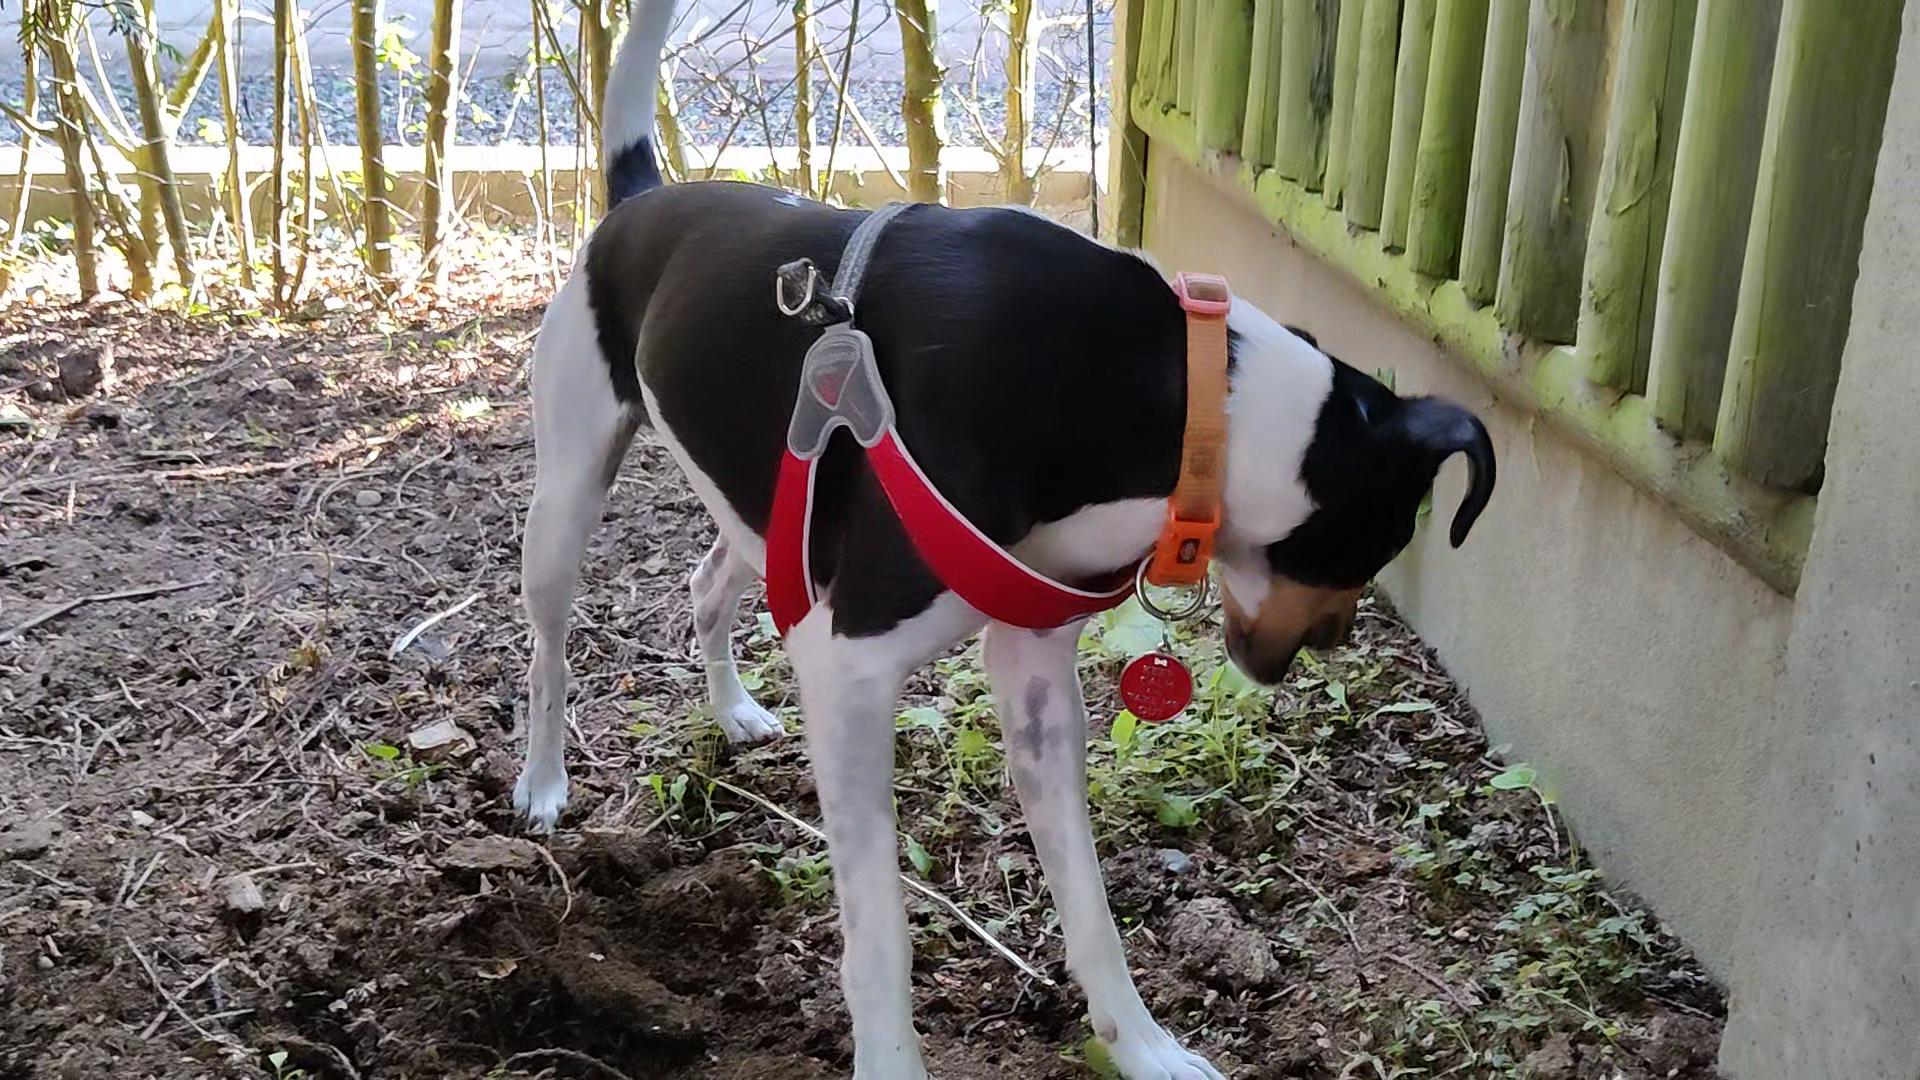Dog: (451, 0, 1531, 1079)
